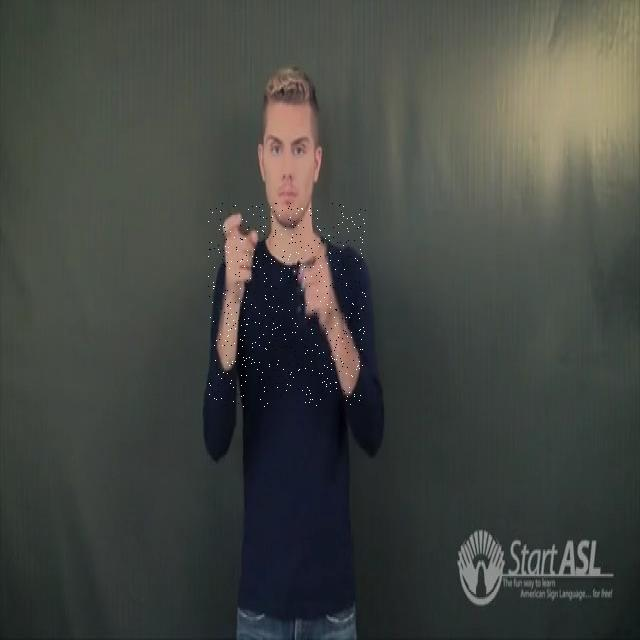manager: (208, 203, 366, 407)
